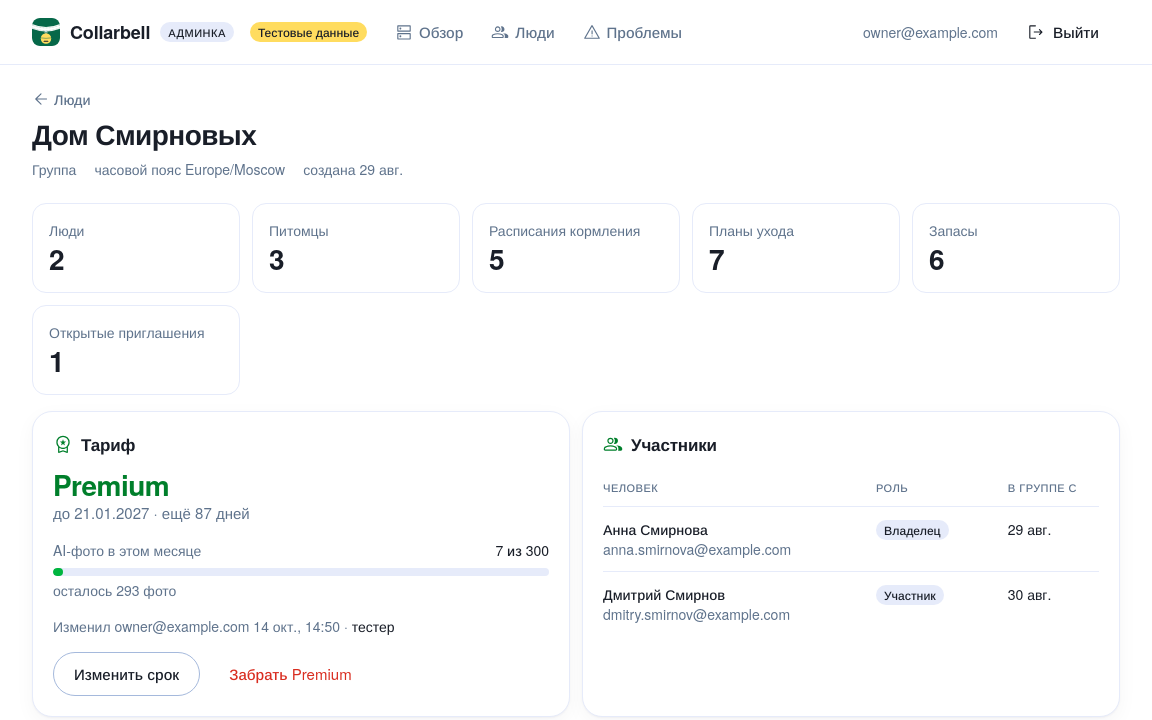
Тариф › changes the term, starting from the current one
Click the button "Изменить срок": (127, 674) [53,652,200,696]
(page scrolled)
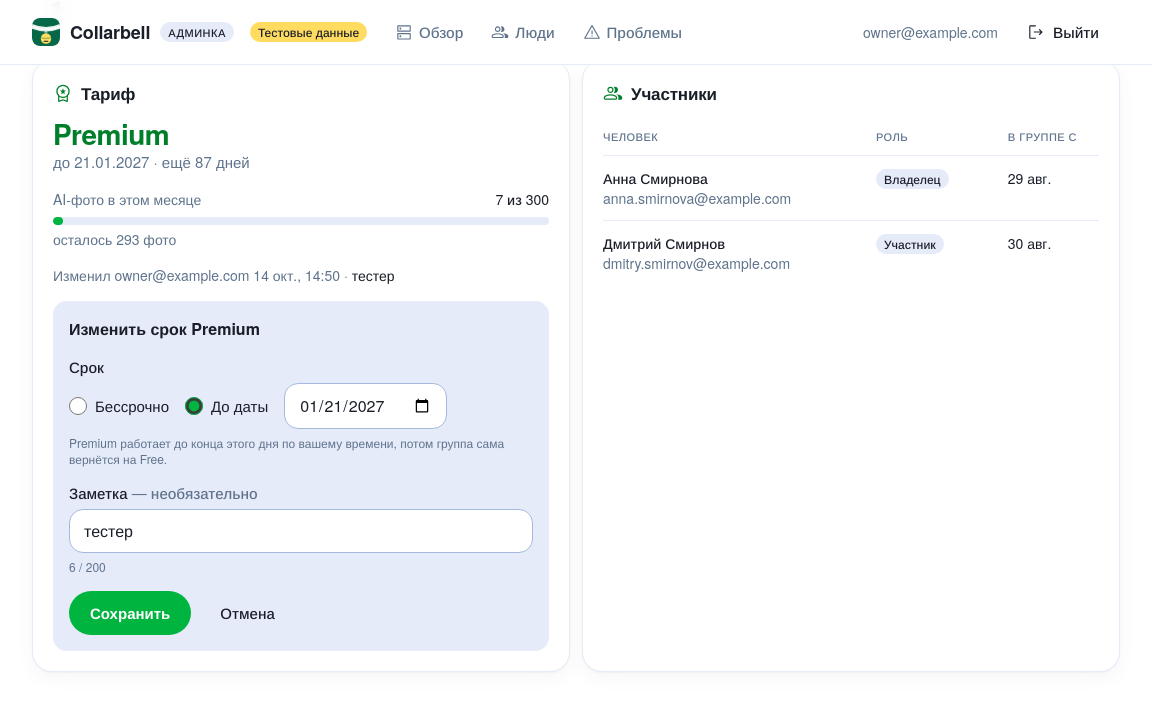
Result: the field labelled "Заметка — необязательно" holds "тестер" at [69,509,533,553]
Click the radio button labelled "Бессрочно": (78, 406) [69,397,87,415]
(page scrolled)
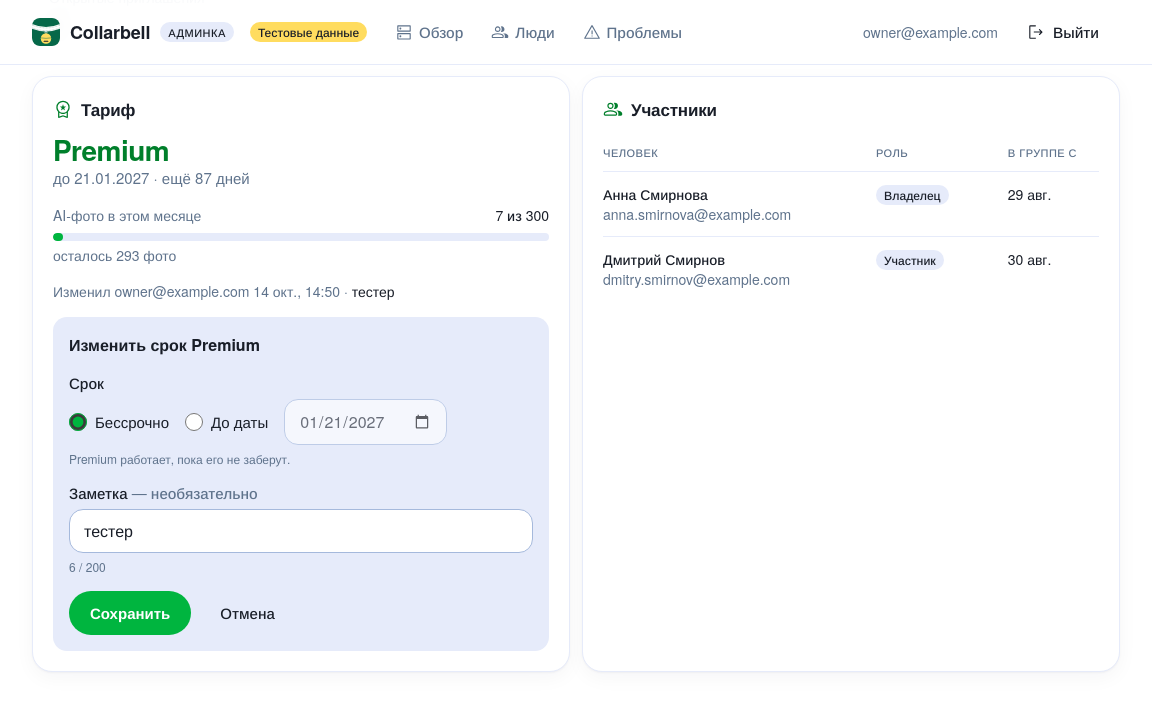
Click the button "Сохранить": (130, 613) [69,591,191,635]
(page scrolled)
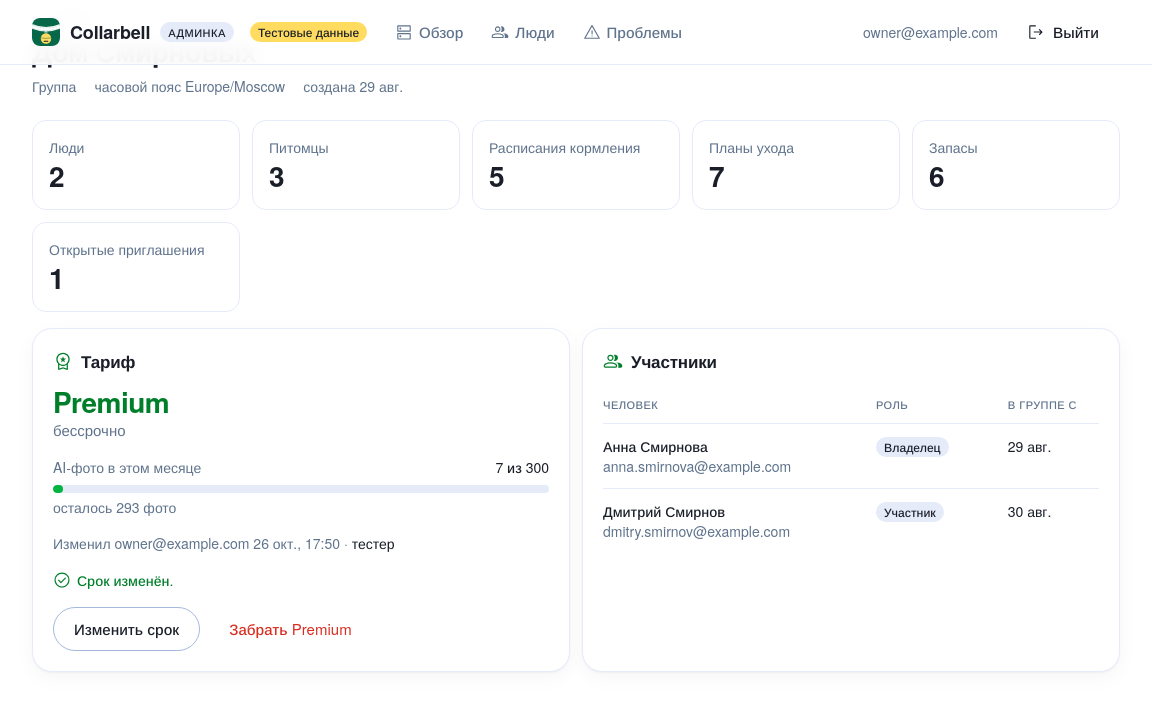
Result: the text "Срок изменён." is shown at [53,570,173,590]
Result: the text "бессрочно" is shown at [53,419,126,440]
